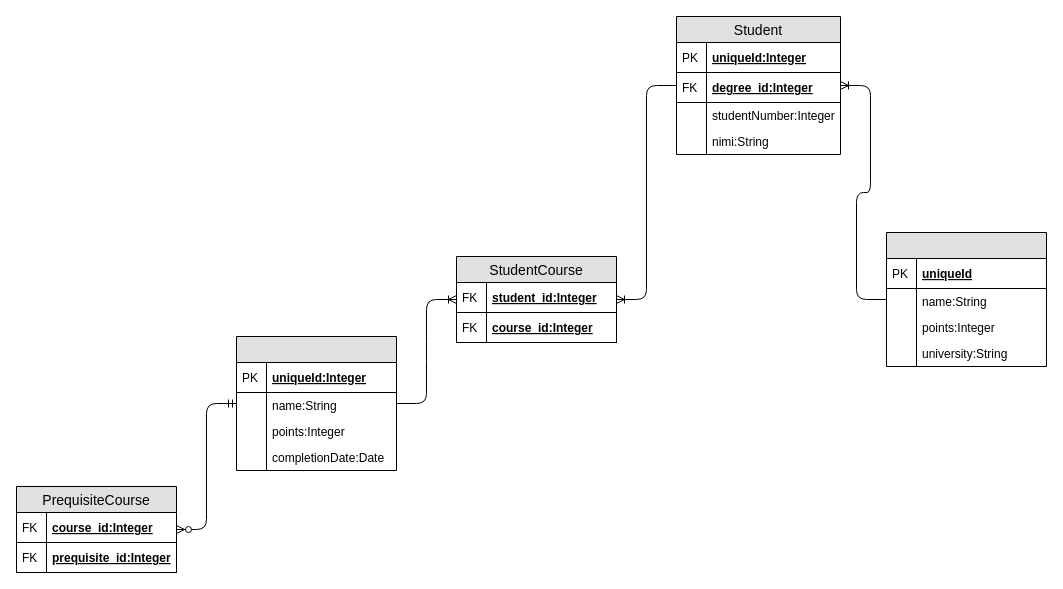
This 1063x589 diagram has some shape labels left out. The box of each missing label's shape, as (x1, y1, x2, y2) in pixels:
Course: (236, 336, 396, 470)
Degree: (886, 232, 1046, 366)
